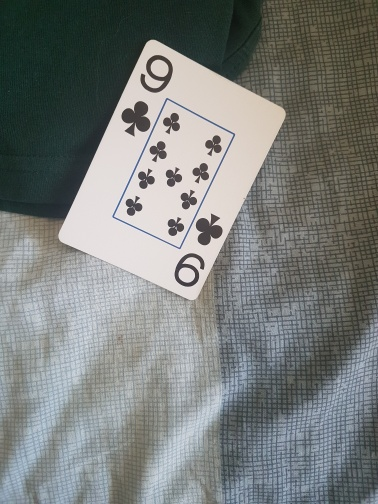nine: (59, 39, 286, 300)
